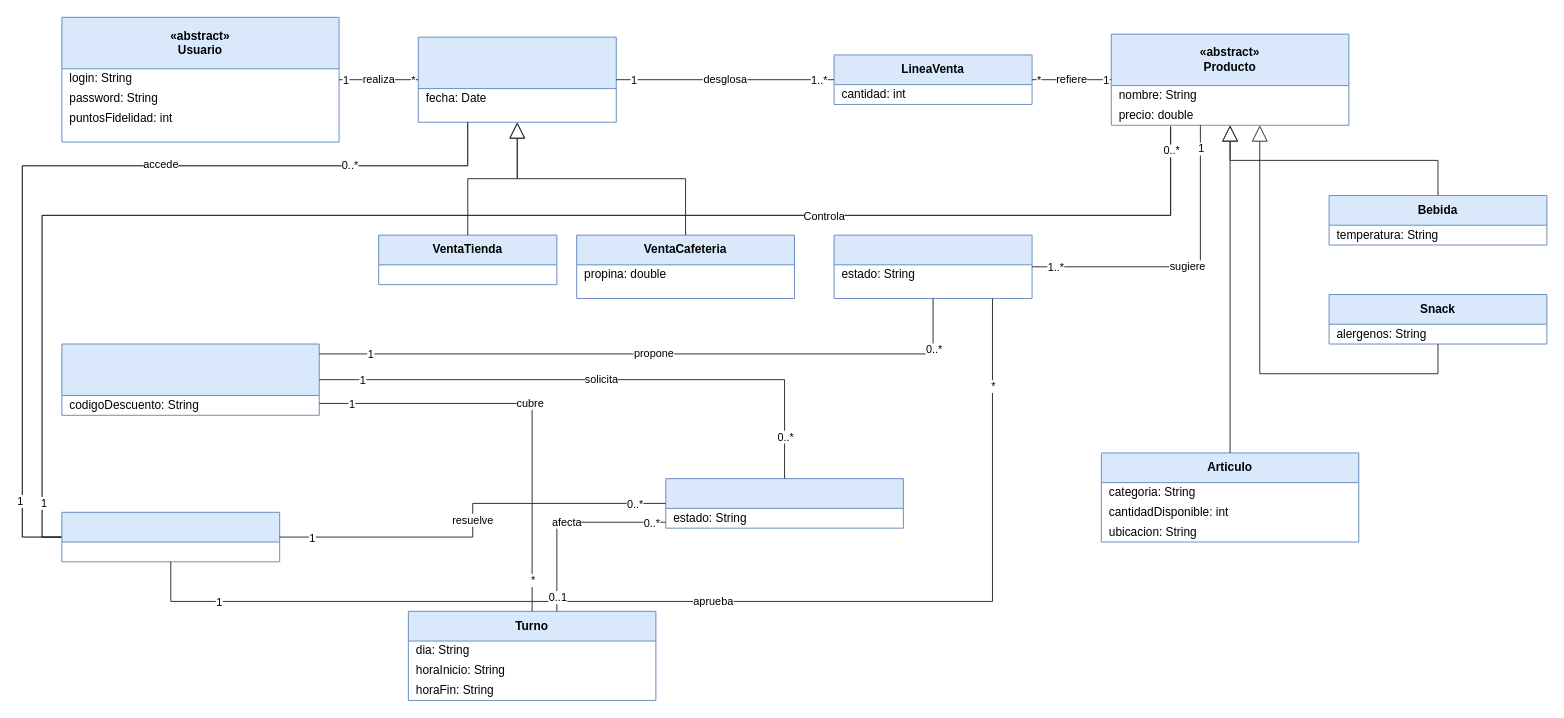
Some shapes in this 1564 by 718 pixel diagram are drawn without their labels. Here are the shapes that lost their labels. From the top down, the box of each, then its label:
(417, 36, 616, 122): «abstract» Venta
(833, 234, 1032, 298): Sugerencia
(61, 343, 319, 415): Empleado
(665, 478, 903, 528): SolicitudCambioTurno
(61, 511, 280, 562): Administrador
